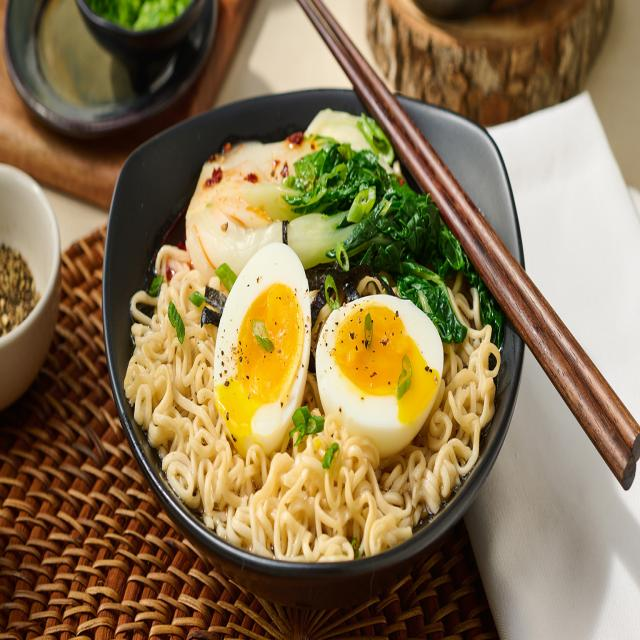boiled egg: (316, 295, 443, 456), (214, 244, 310, 455)
noodles: (124, 269, 500, 562)
